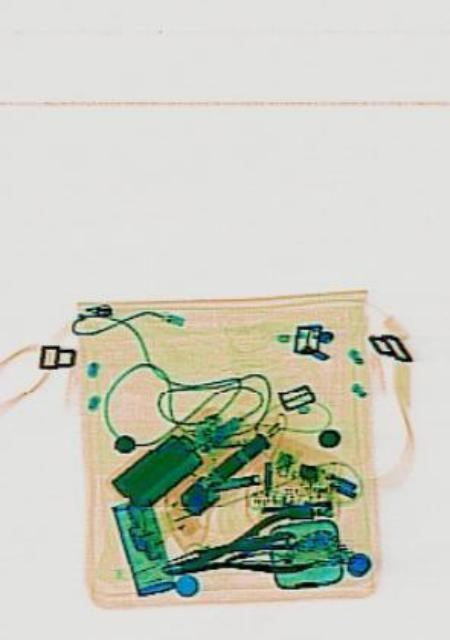Pliers: (155, 500, 317, 600)
